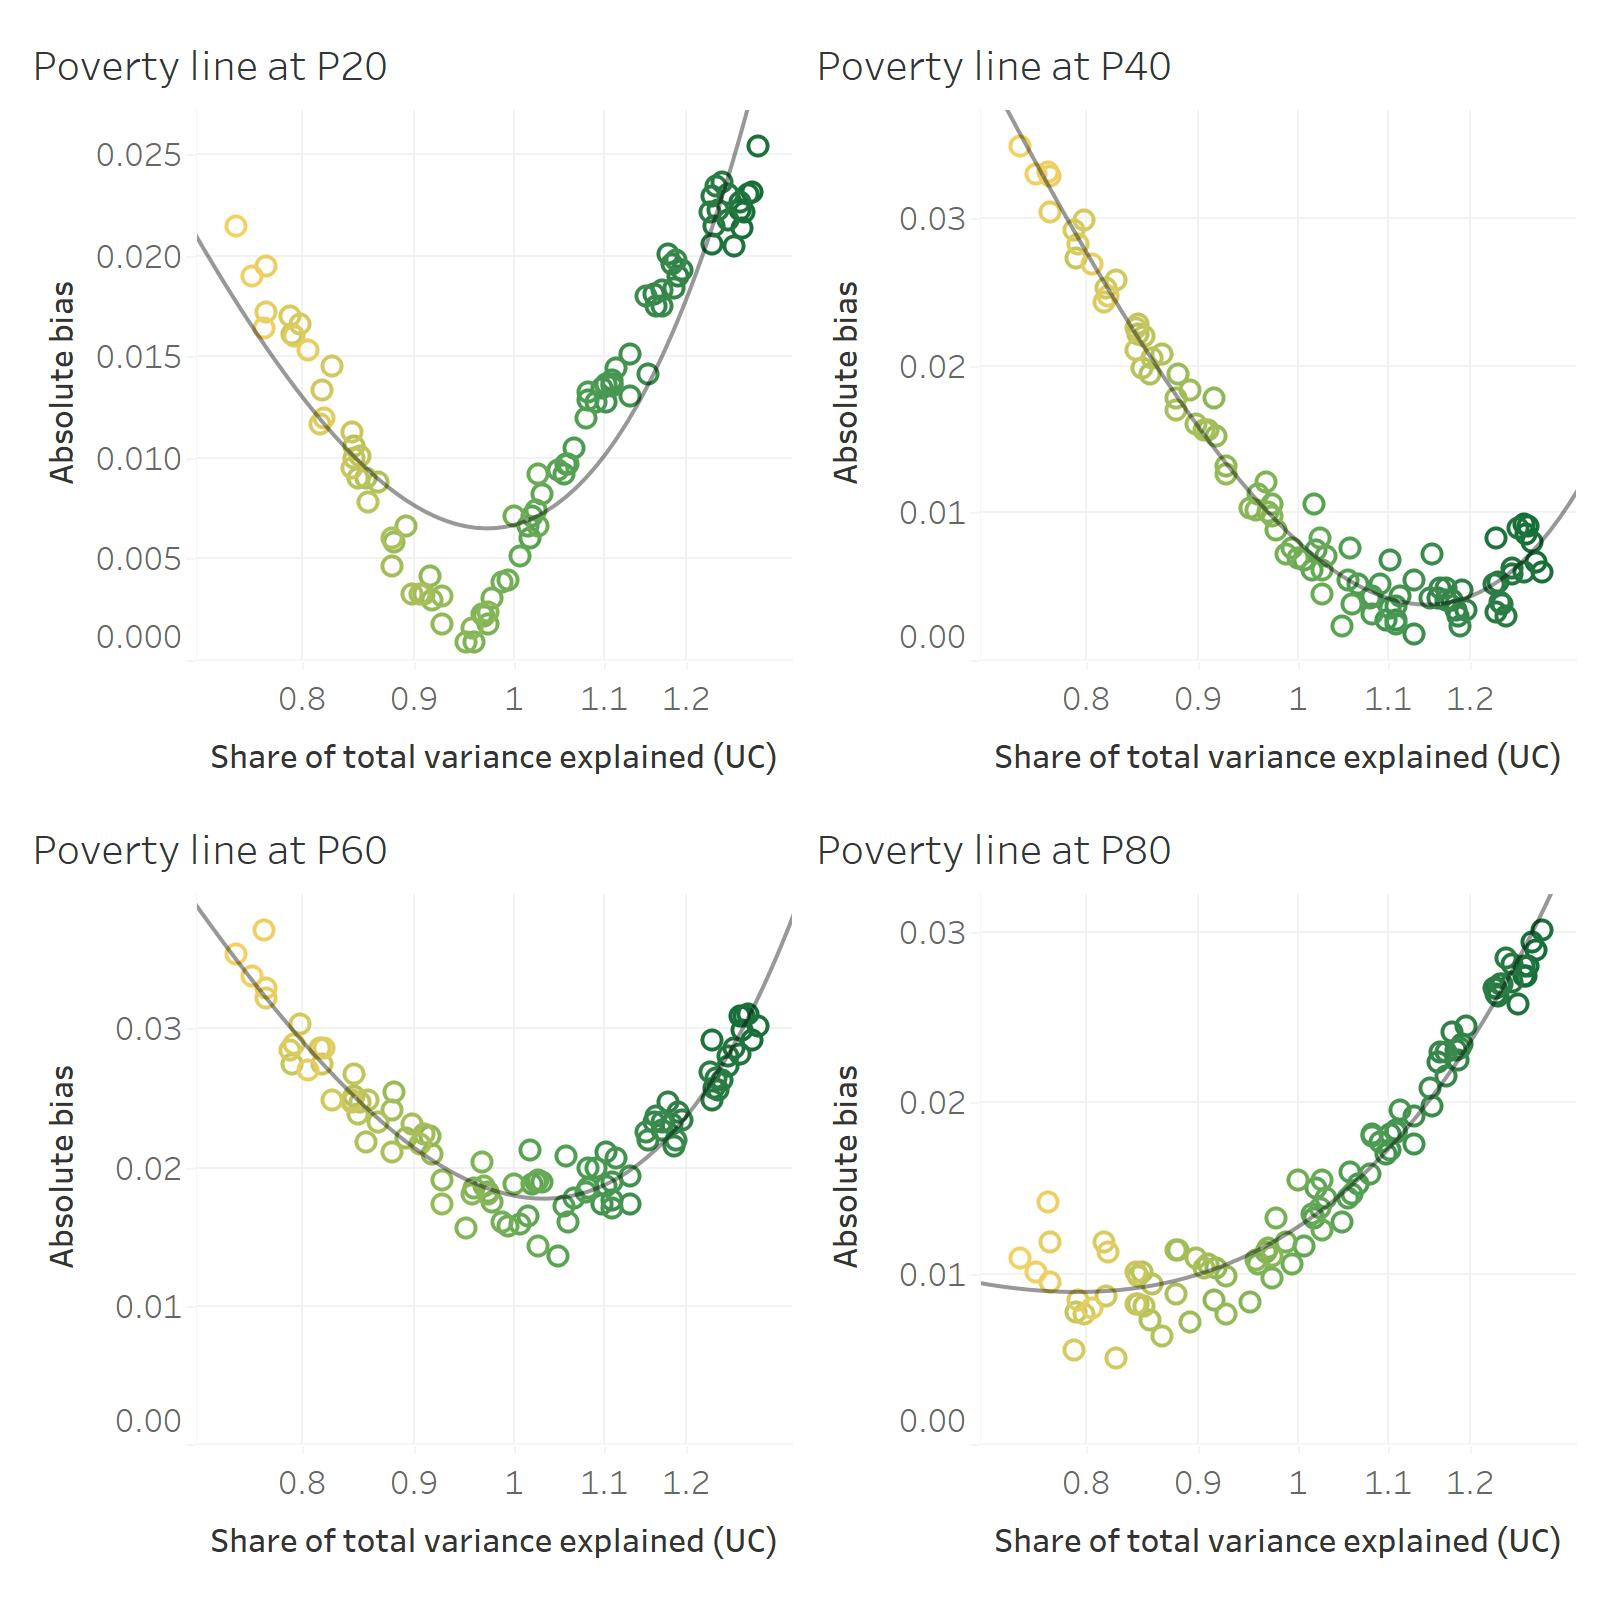

Layout of this report page (visuals, bound fields, positions):
{"tool":"tableau","page":{"name":"Dashboard 2","canvas":[800,800],"ordinal":1},"visuals":[{"type":"worksheet","title":"Sheet 3 (4)","mark":"Automatic","rows":["value"],"cols":["var_explained_uc"],"box":[8,8,392,392]},{"type":"worksheet","title":"Sheet 3 (3)","mark":"Automatic","rows":["value"],"cols":["var_explained_uc"],"box":[400,8,392,392]},{"type":"worksheet","title":"Sheet 3 (5)","mark":"Automatic","rows":["value"],"cols":["var_explained_uc"],"box":[8,400,392,392]},{"type":"worksheet","title":"Sheet 3","mark":"Automatic","rows":["value"],"cols":["var_explained_uc"],"box":[400,400,392,392]}]}

Visuals, with their boxes in screenshot pixels (x1, y1, x2, y2), scaled from the page's 800x800 canvas onto the 1600x1600 screenshot:
"Sheet 3 (4)" worksheet: 16:16:800:800
"Sheet 3 (3)" worksheet: 800:16:1584:800
"Sheet 3 (5)" worksheet: 16:800:800:1584
"Sheet 3" worksheet: 800:800:1584:1584
